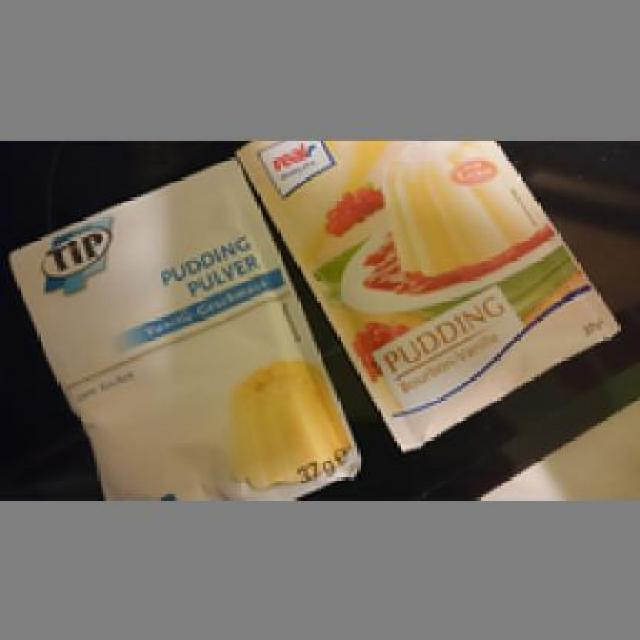Cake: (228, 134, 632, 440), (8, 154, 346, 497)
